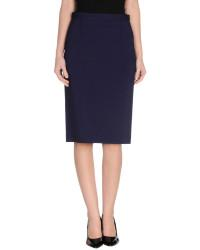F_heels: (81, 209, 123, 248)
F_tailored skirt: (62, 10, 140, 146)
